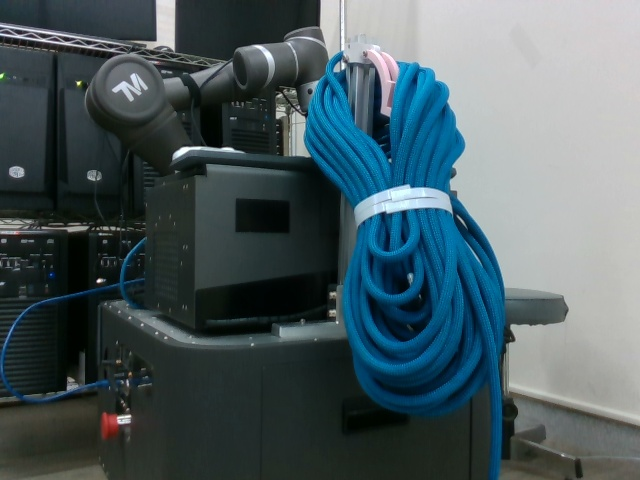rope: (299, 55, 510, 416)
